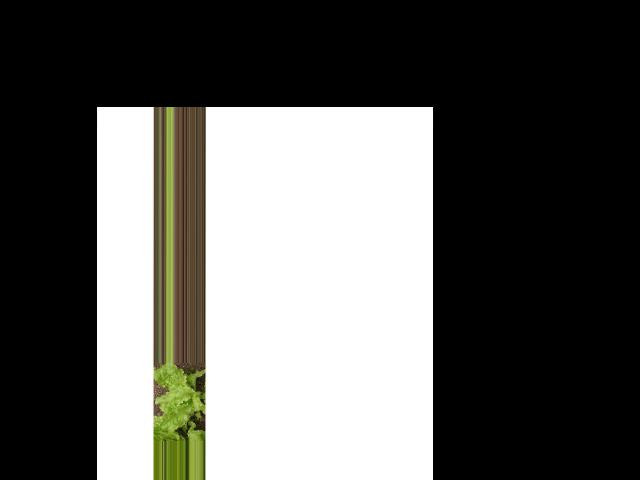lettuce: (155, 363, 209, 441)
